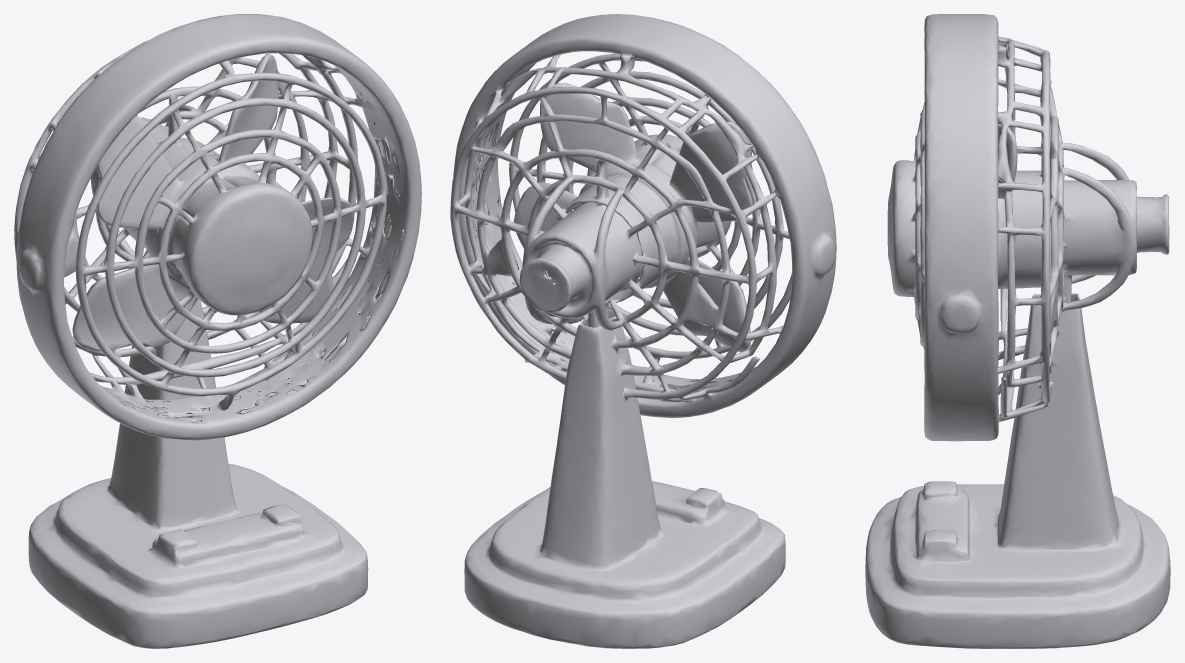
File: smalllectureroom_DeskFan.glb
The picture shows the model from 3 angles, left to right: view 1: azimuth 30°, elevation 25°; view 2: azimuth 150°, elevation 25°; view 3: azimuth 270°, elevation 25°; orthographic projection. The views are drawn at different scales.
Parts seen in each view (by area): view 1: world; view 2: world; view 3: world.
Boxes of the visible parts, x1,y1,x2,y2 form: world: [14, 14, 421, 648]; world: [450, 14, 836, 648]; world: [865, 14, 1170, 648].
Size of the model in its own units: 0.7143 by 1 by 0.498.
Materials: 1 (1 with a texture image).
